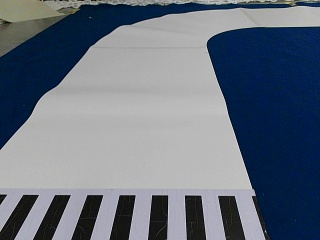crosswalk: (0, 193, 258, 239)
